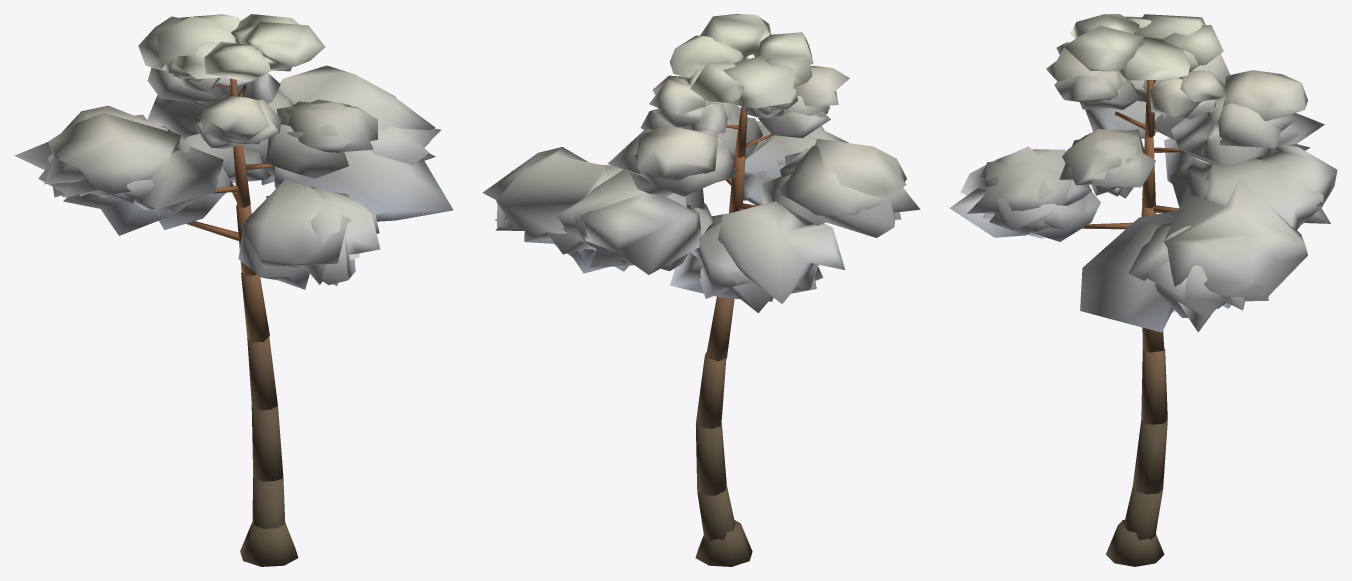
The picture shows the model from 3 angles, left to right: view 1: azimuth 30°, elevation 25°; view 2: azimuth 150°, elevation 25°; view 3: azimuth 270°, elevation 25°; orthographic projection. The views are drawn at different scales.
Visible parts, largest first — view 1: crown, trunk1, trunk2; view 2: crown, trunk1, trunk2; view 3: crown, trunk1, trunk2.
Part boxes in pixels (box(x1,y1,x2,y2)): crown: box(14, 14, 453, 289); trunk1: box(240, 337, 298, 566); trunk2: box(186, 78, 275, 342); crown: box(482, 14, 920, 312); trunk1: box(695, 352, 752, 566); trunk2: box(706, 106, 772, 361); crown: box(950, 14, 1337, 332); trunk1: box(1106, 349, 1167, 566); trunk2: box(1082, 80, 1183, 352).
Bounding box in the file's own units: 13.57 × 16.81 × 11.38.
